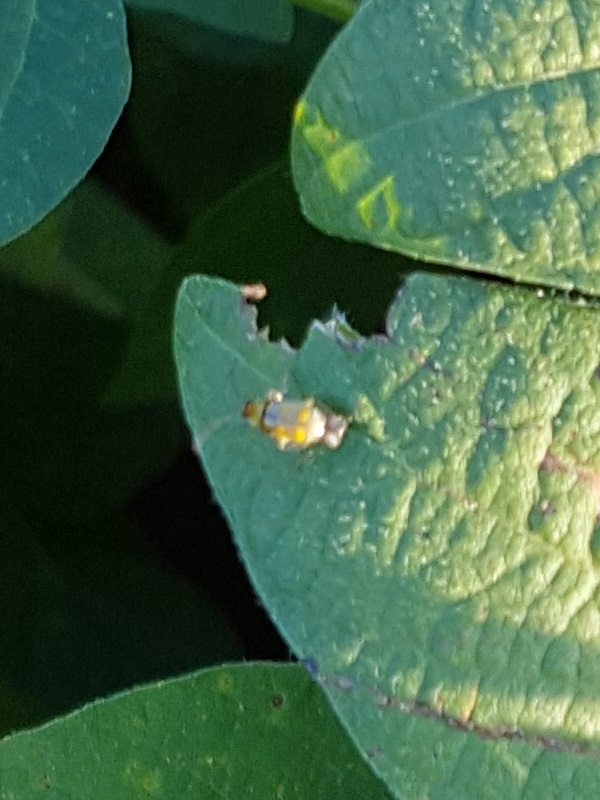Diabrotica_speciosa: (222, 375, 361, 466)
